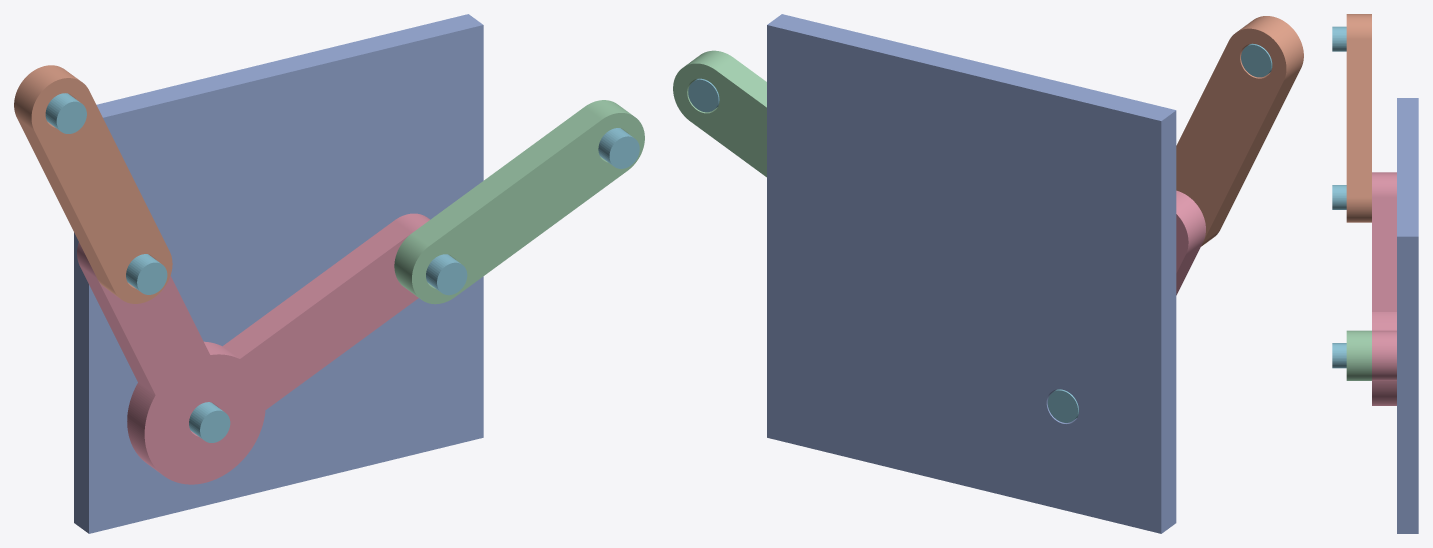
File: bell_crank_demo.glb
3 views of the same model, side by side, from view 1: azimuth 30°, elevation 25°; view 2: azimuth 150°, elevation 25°; view 3: azimuth 270°, elevation 25° (orthographic). The views are drawn at different scales.
Parts seen in each view (by area): view 1: base, crank, input_link, output_link, pin_2, pin_3, pin_0, pin_1, pin_4; view 2: base, output_link, input_link, crank, pin_3, pin_0, pin_4; view 3: base, crank, output_link, input_link, pin_3, pin_4, pin_2.
Part boxes in pixels (box(x1,y1,x2,y2)): base: box(74, 14, 483, 533); crank: box(77, 213, 429, 484); input_link: box(394, 100, 644, 304); output_link: box(14, 65, 172, 303); pin_2: box(126, 254, 167, 294); pin_3: box(598, 128, 639, 168); pin_0: box(189, 402, 230, 442); pin_1: box(426, 254, 467, 295); pin_4: box(45, 93, 86, 133); base: box(767, 14, 1176, 533); output_link: box(1176, 16, 1303, 246); input_link: box(673, 50, 766, 177); crank: box(1176, 190, 1205, 295); pin_3: box(688, 78, 719, 112); pin_0: box(1047, 389, 1078, 422); pin_4: box(1241, 43, 1272, 77); base: box(1397, 98, 1418, 533); crank: box(1372, 172, 1396, 405); output_link: box(1346, 14, 1371, 222); input_link: box(1346, 330, 1371, 380); pin_3: box(1332, 343, 1346, 368); pin_4: box(1332, 26, 1346, 51); pin_2: box(1332, 185, 1346, 209).
Size of the model in its own units: 70.91 by 54.78 by 12.
